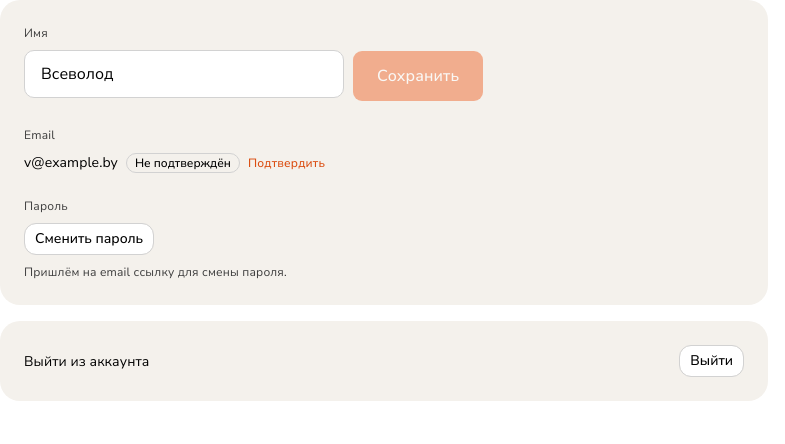
saves a trimmed name and syncs AuthProvider via applySession
Replace the text in the field labelled "Имя" with "  Новое имя  " at (184, 74), box top-left (24, 50), bottom-right (344, 98)
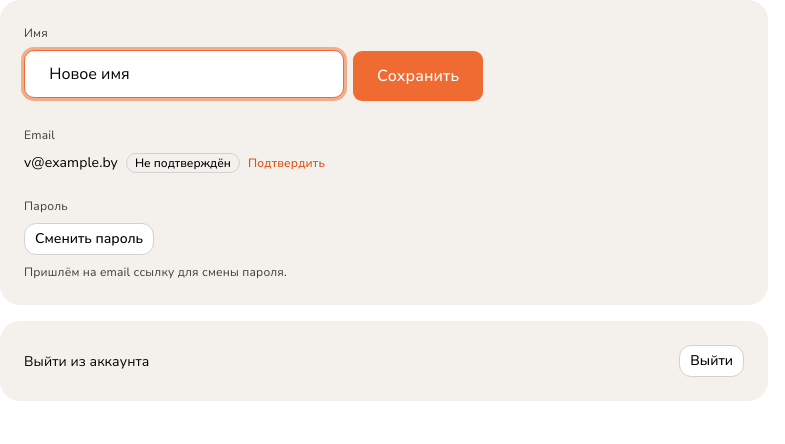
Click the button "Сохранить".
click(418, 76)  # box top-left (352, 50), bottom-right (484, 102)
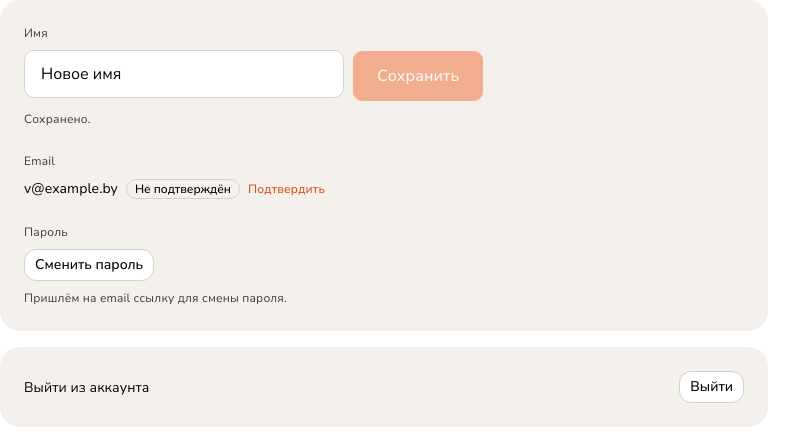
Expected: the text "Сохранено." is shown, top-left (24, 111), bottom-right (91, 127)
